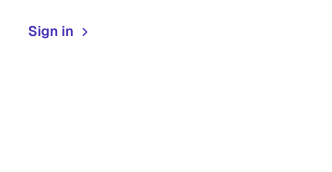
Test: site navigation and sign-in › retries a failed header sign-in with the local callback from the login URL
Later steps or results of the test are not shown.
Click the button "Sign in": (60, 32) 12,12 -> 108,51
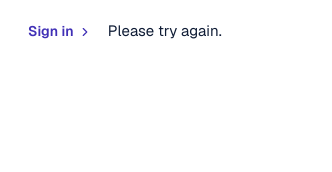
Expected: the message shows "try again", 108,21 -> 222,40
